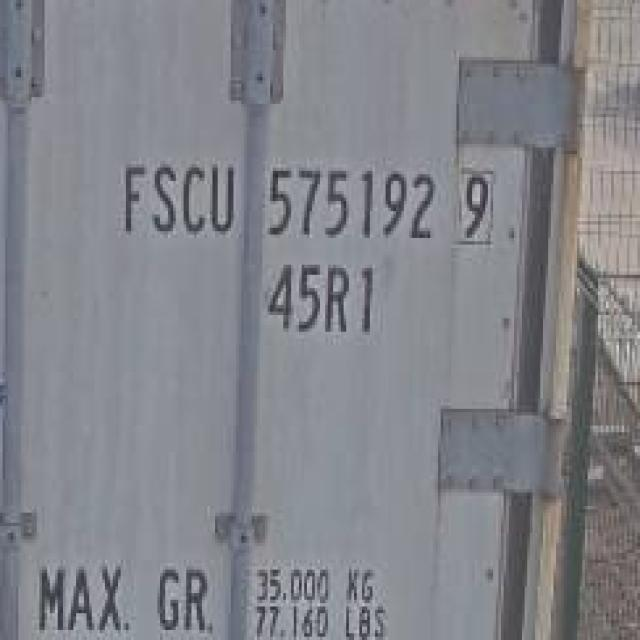dv: (453, 166, 501, 245)
owner: (112, 150, 236, 239)
serial: (262, 157, 440, 245)
size: (258, 255, 384, 338)
